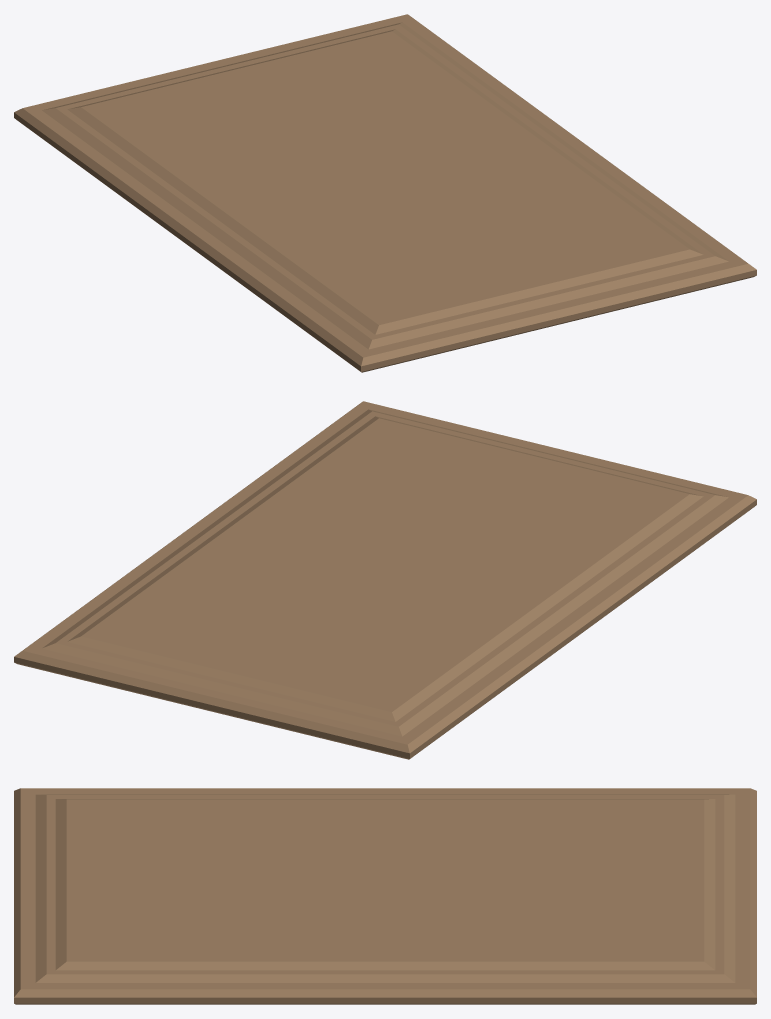
The model's file is coffin_lid.glb.
The picture shows the model from 3 angles, top to bottom: view 1: azimuth 30°, elevation 25°; view 2: azimuth 150°, elevation 25°; view 3: azimuth 270°, elevation 25°; orthographic projection. The views are drawn at different scales.
Parts seen in each view (by area): view 1: coffin_lid; view 2: coffin_lid; view 3: coffin_lid.
Part boxes in pixels (bbox=[...]): coffin_lid: bbox=[14, 14, 756, 372]; coffin_lid: bbox=[14, 401, 756, 759]; coffin_lid: bbox=[14, 788, 756, 1004].
Bounding box in the file's own units: 1.62 × 0.08 × 2.46.
